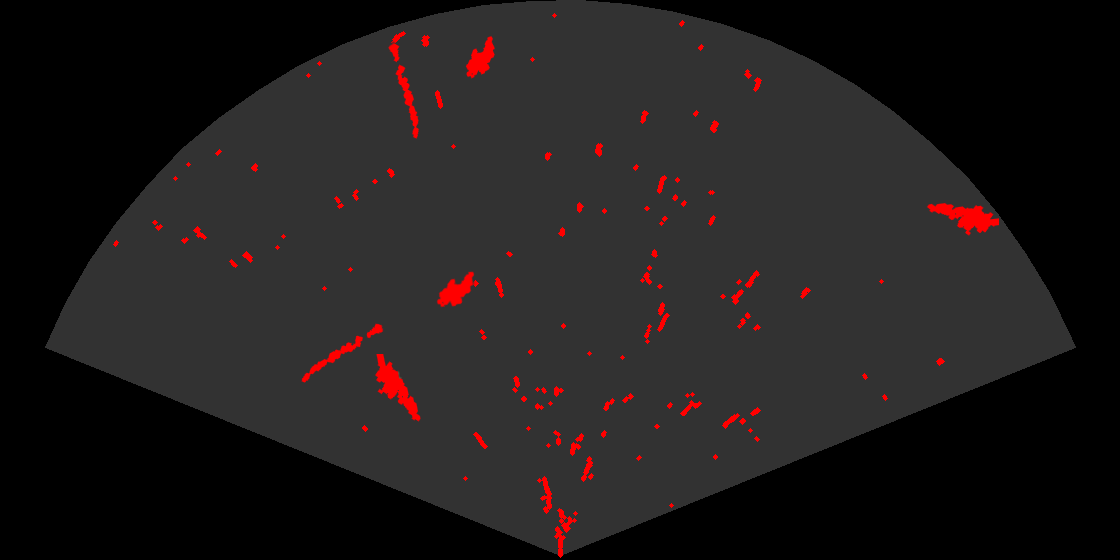AUV: (435, 270, 476, 309), (464, 35, 496, 80)
chain: (300, 322, 385, 384), (387, 41, 421, 140)
frogman: (374, 354, 422, 423), (925, 201, 999, 237)
